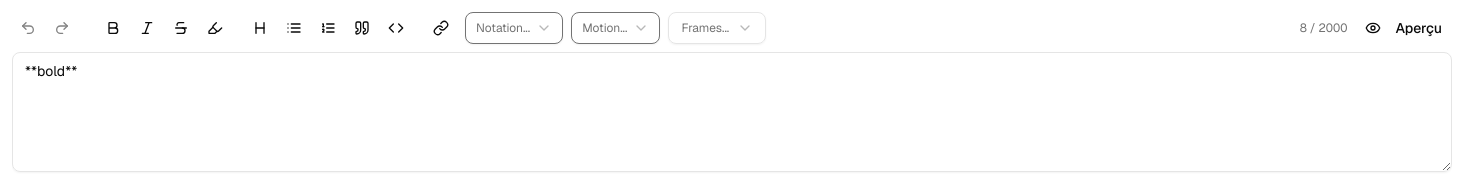
Test: RichMarkdownEditor › renders markdown in preview mode and hides the textarea
Click the button "Aperçu": (1404, 28) [1355,12,1452,44]
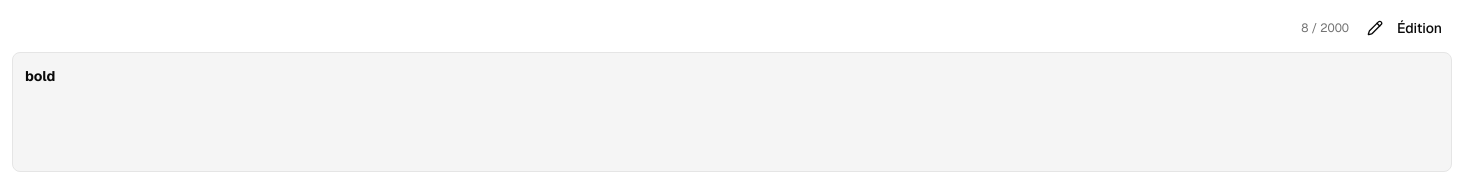
expect the text box labelled "Note" is gone: met
